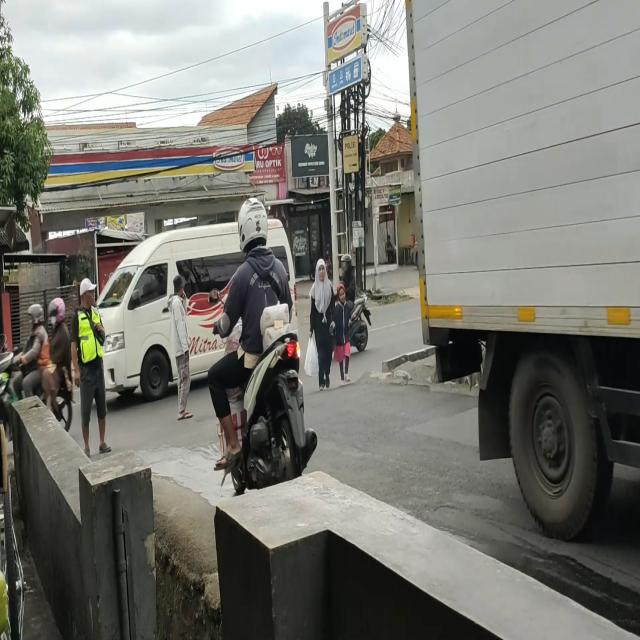helmet: (238, 198, 267, 243), (48, 298, 68, 326), (26, 303, 43, 329), (338, 252, 354, 276)
